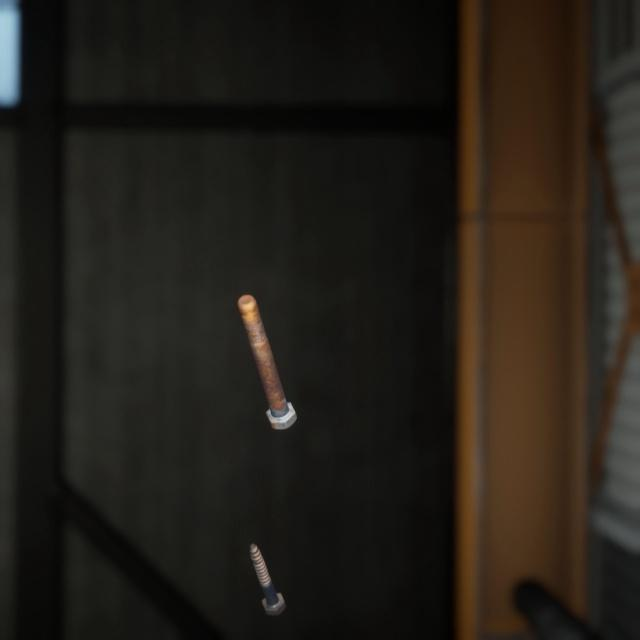bolt: (233, 270, 301, 415), (245, 515, 290, 596)
